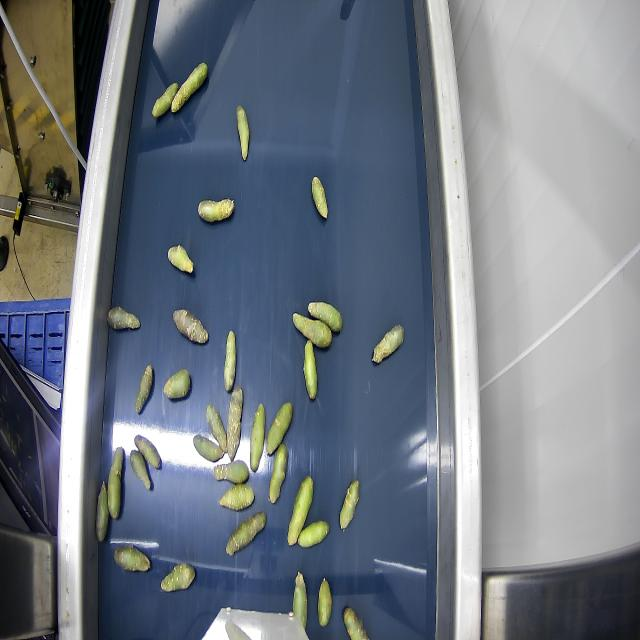Baby Potato: (286, 474, 314, 546), (172, 60, 209, 114), (225, 511, 265, 556), (266, 401, 292, 454), (293, 314, 332, 348), (372, 323, 404, 362), (172, 309, 208, 343), (226, 386, 242, 459), (107, 447, 123, 519), (269, 442, 287, 504), (308, 300, 342, 332), (339, 477, 359, 531), (249, 402, 265, 468), (218, 483, 256, 510), (134, 434, 162, 470), (113, 545, 150, 572), (161, 562, 195, 591), (151, 82, 178, 118), (206, 404, 226, 452), (296, 520, 330, 548), (311, 174, 330, 222), (135, 364, 153, 414), (304, 339, 318, 402), (129, 450, 151, 490), (292, 572, 307, 630), (163, 369, 191, 400), (197, 198, 233, 222), (343, 606, 367, 640), (193, 435, 223, 462), (107, 306, 139, 331), (95, 480, 108, 541), (224, 329, 236, 394), (167, 243, 193, 273), (317, 575, 331, 629), (217, 462, 250, 484), (237, 105, 250, 160)
